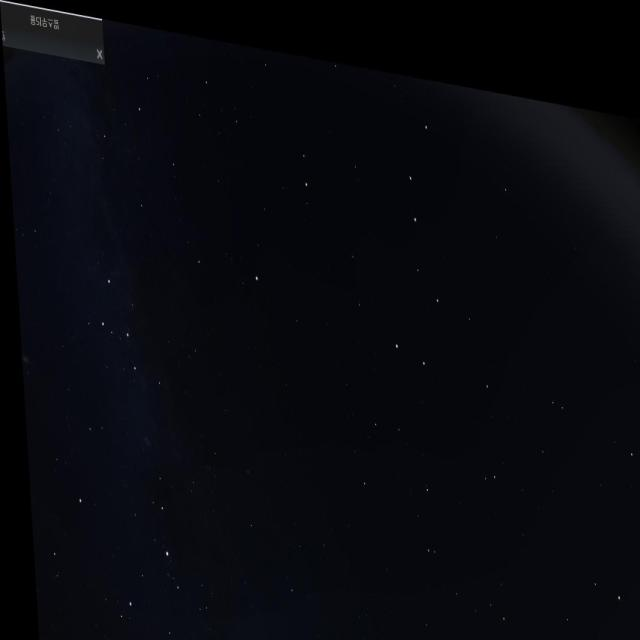ursa_major: (371, 87, 458, 375)
